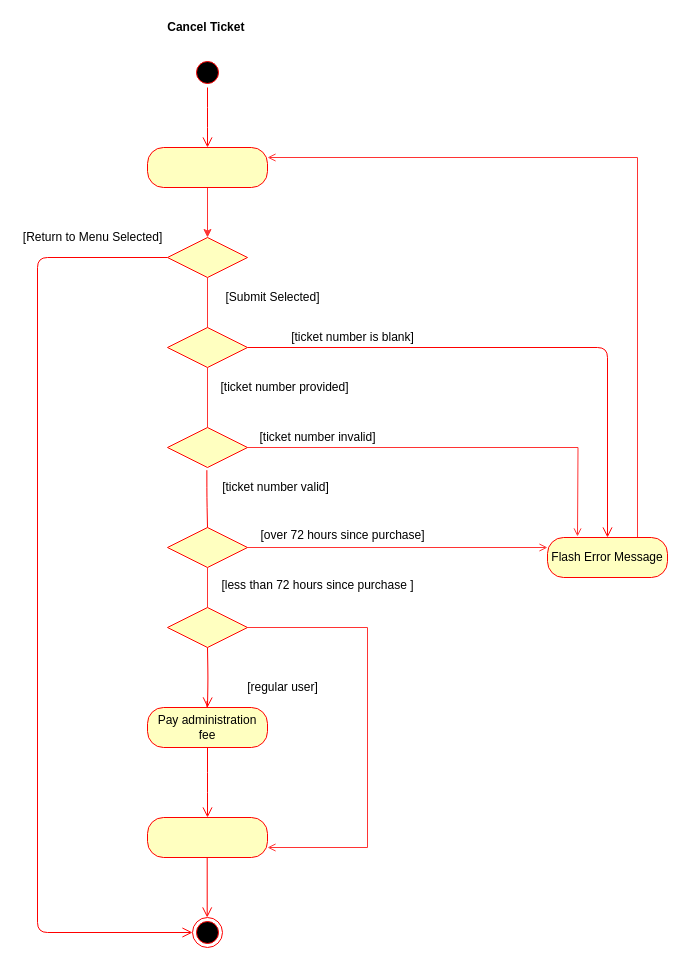
Image size: 685x965. Some labels were removed from this diagram. The centre of each missing label's shape, as x and y in pixels:
get coupon: pixel 207 837
Prompt User for ticket number: pixel 207 167
